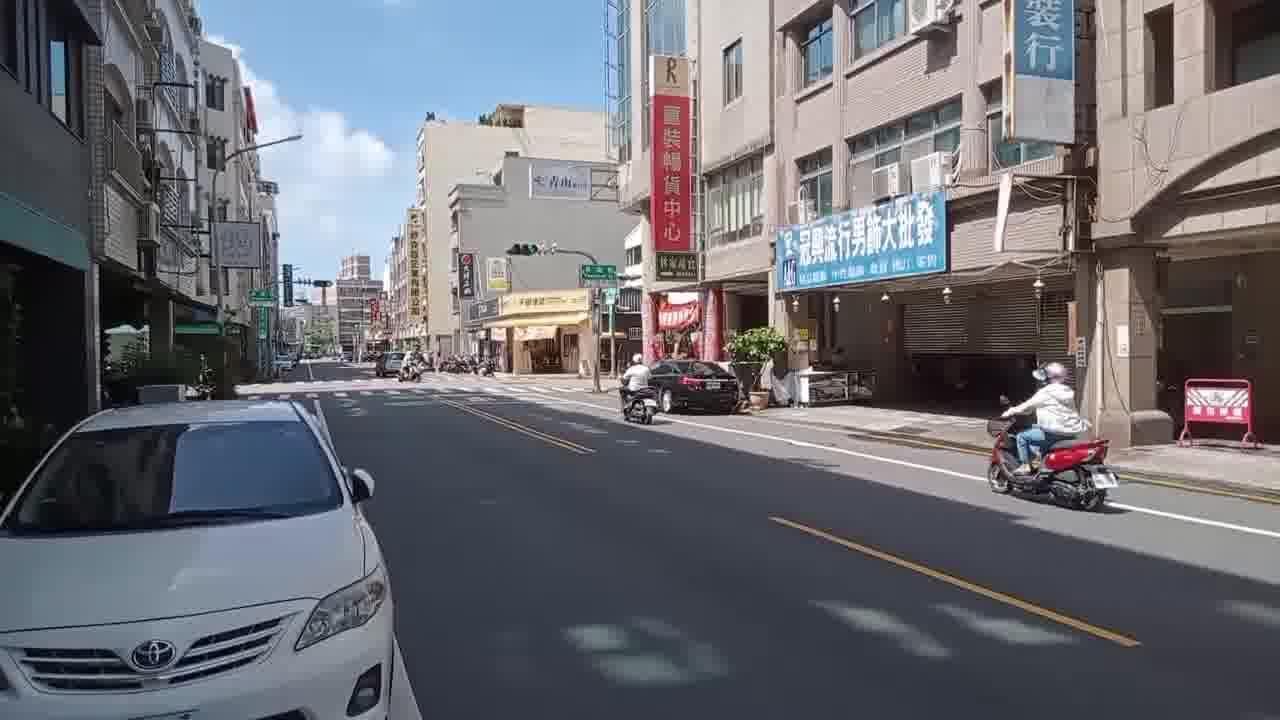driver: (984, 355, 1128, 521)
helmet: (1032, 361, 1067, 384)
